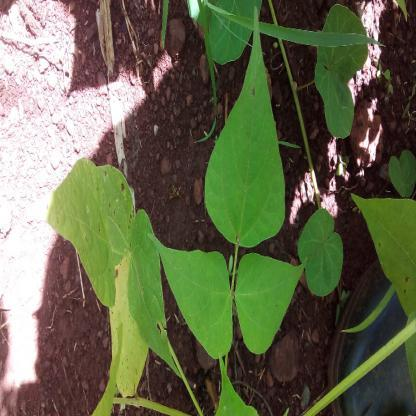Beans_Angular_LeafSpot: (205, 11, 284, 257), (60, 158, 140, 306), (109, 212, 169, 372), (348, 191, 416, 320)
